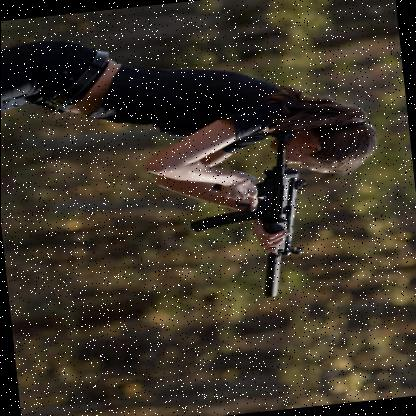rifle: (172, 123, 333, 303)
